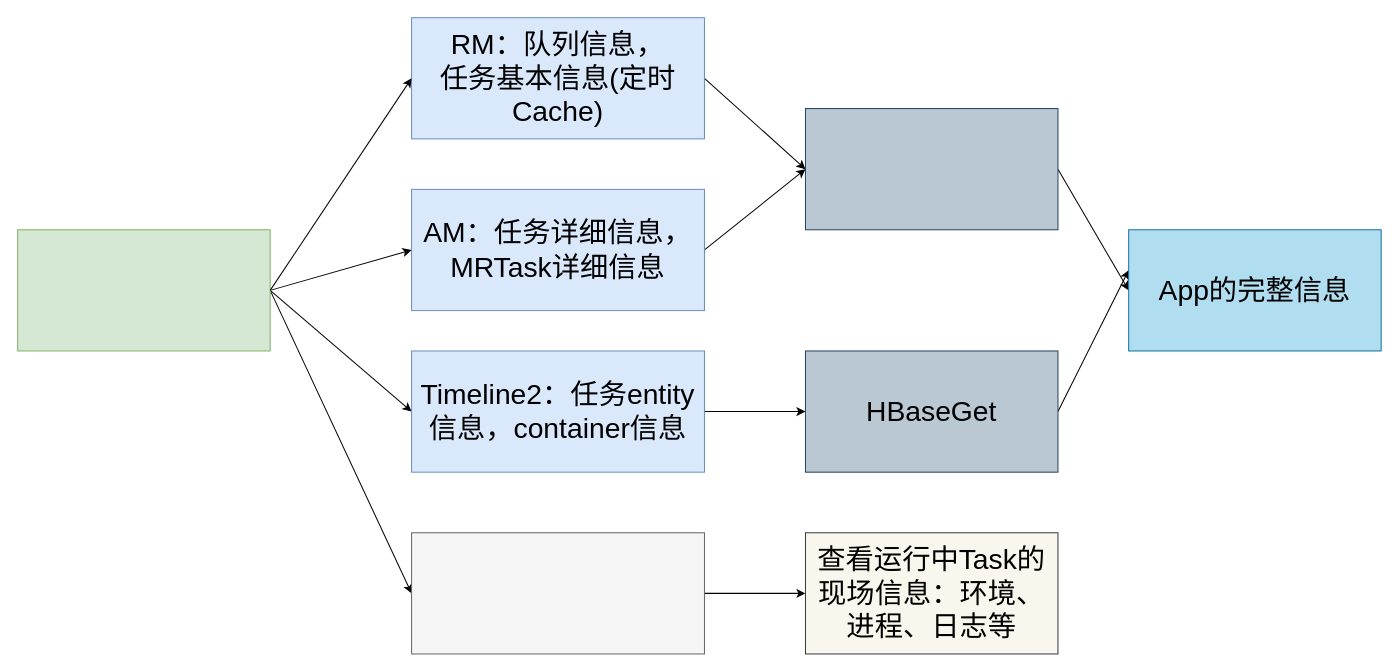
Some shapes in this 1399 by 672 pixel diagram are drawn without their labels. Each missing label, with the centre of its shape:
"Web Shell" belongs at (x=557, y=593).
"YarnApi" belongs at (x=931, y=169).
"运行中任务" belongs at (x=143, y=290).
